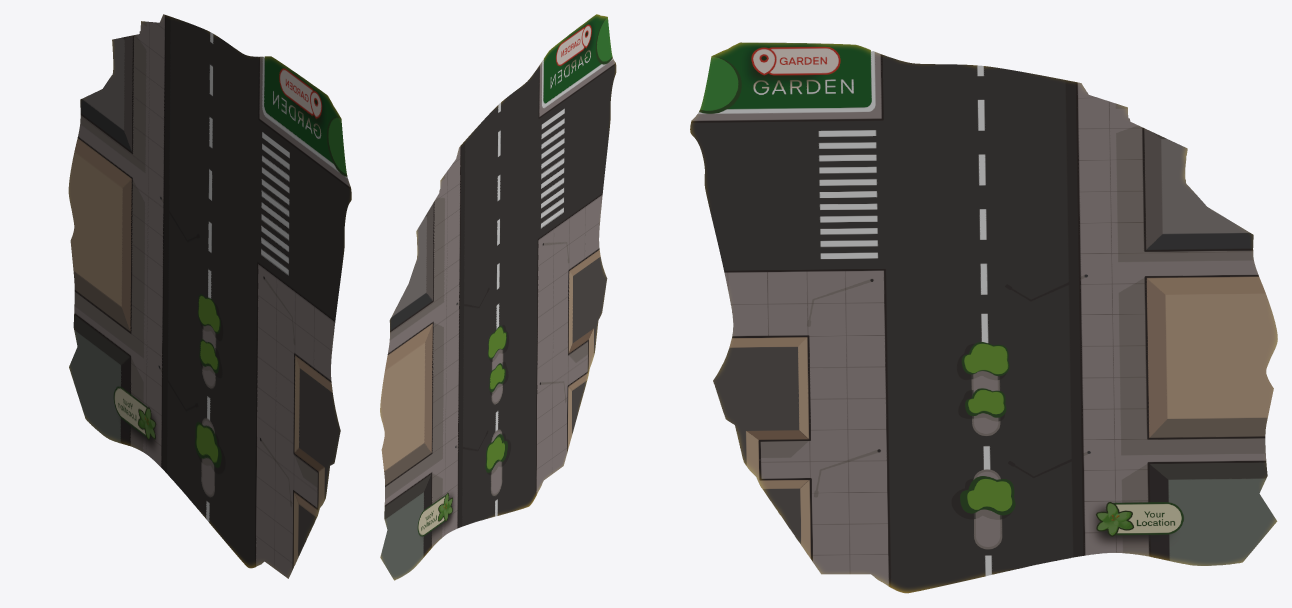
File: Map1.fbx
The picture shows the model from 3 angles, left to right: view 1: azimuth 30°, elevation 25°; view 2: azimuth 150°, elevation 25°; view 3: azimuth 270°, elevation 25°; orthographic projection. The views are drawn at different scales.
Parts seen in each view (by area): view 1: Curve; view 2: Curve; view 3: Curve.
Part boxes in pixels (bbox=[...]): Curve: bbox=[68, 14, 351, 578]; Curve: bbox=[380, 14, 616, 580]; Curve: bbox=[690, 42, 1277, 593].
Size of the model in its own units: 7.2 by 67.24 by 64.83.
Materials: 1 (1 with a texture image).
